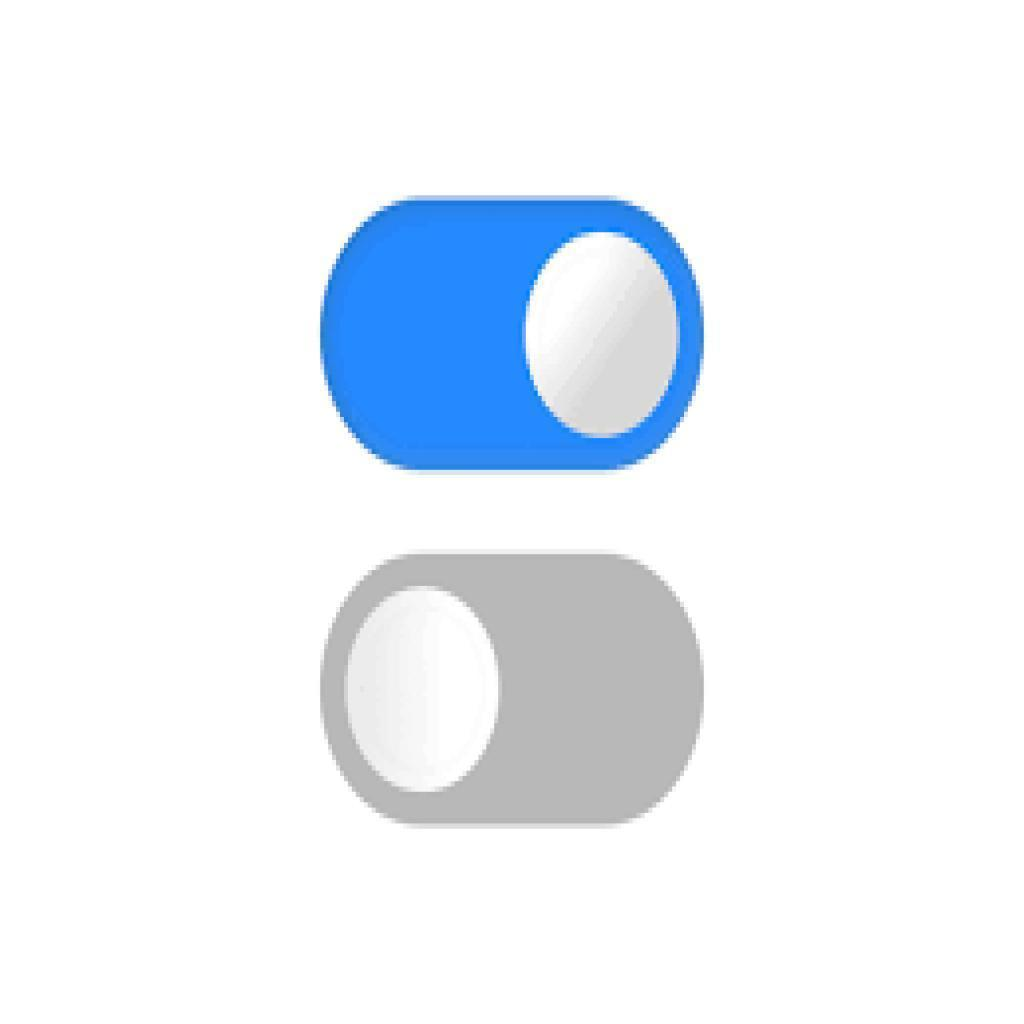switch: (318, 553, 705, 823), (320, 200, 702, 468)
